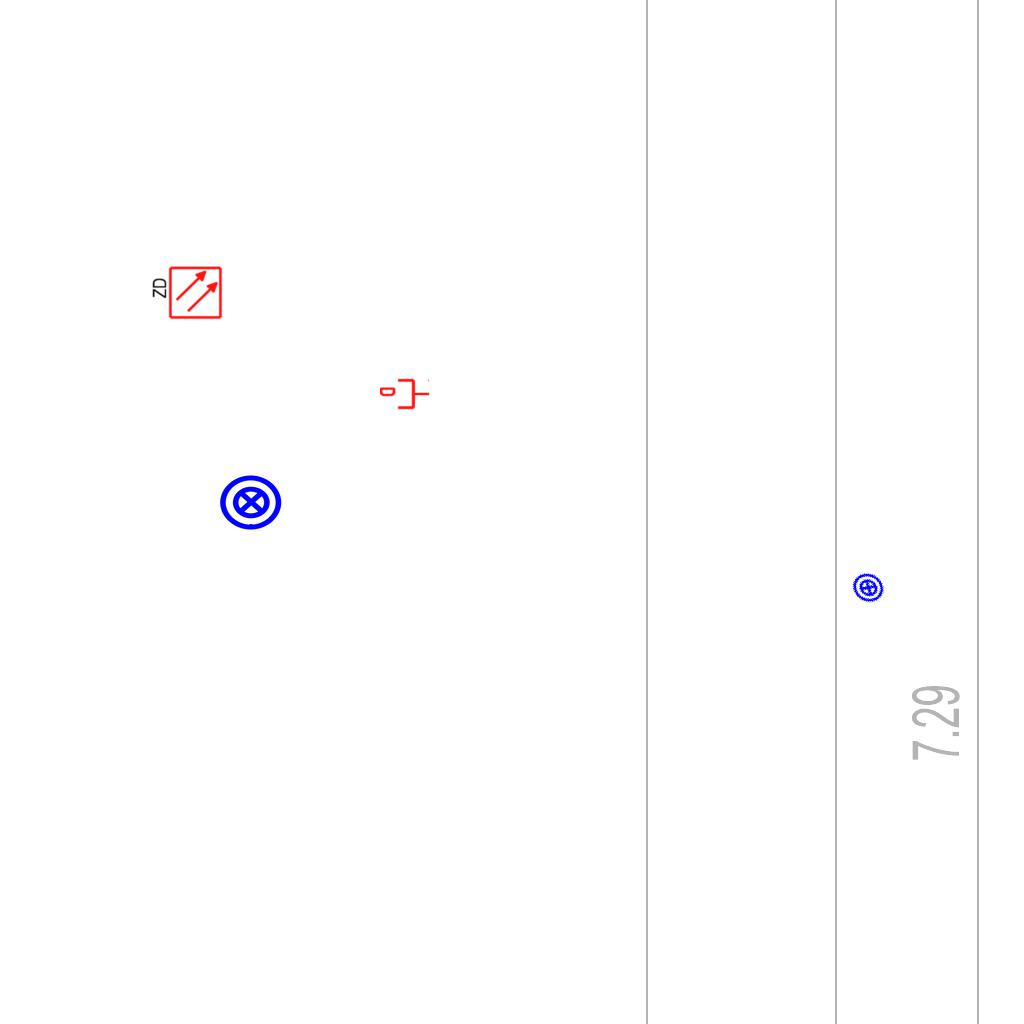Datenanschluss_einfach: (380, 377, 430, 411)
Taster_beleuchtet: (218, 469, 284, 535), (845, 564, 892, 611)
ZD_Melder_in_Zwischendecke_mit_Revisionsoeffnung_mind_40_x_40_cm: (149, 265, 223, 322)
